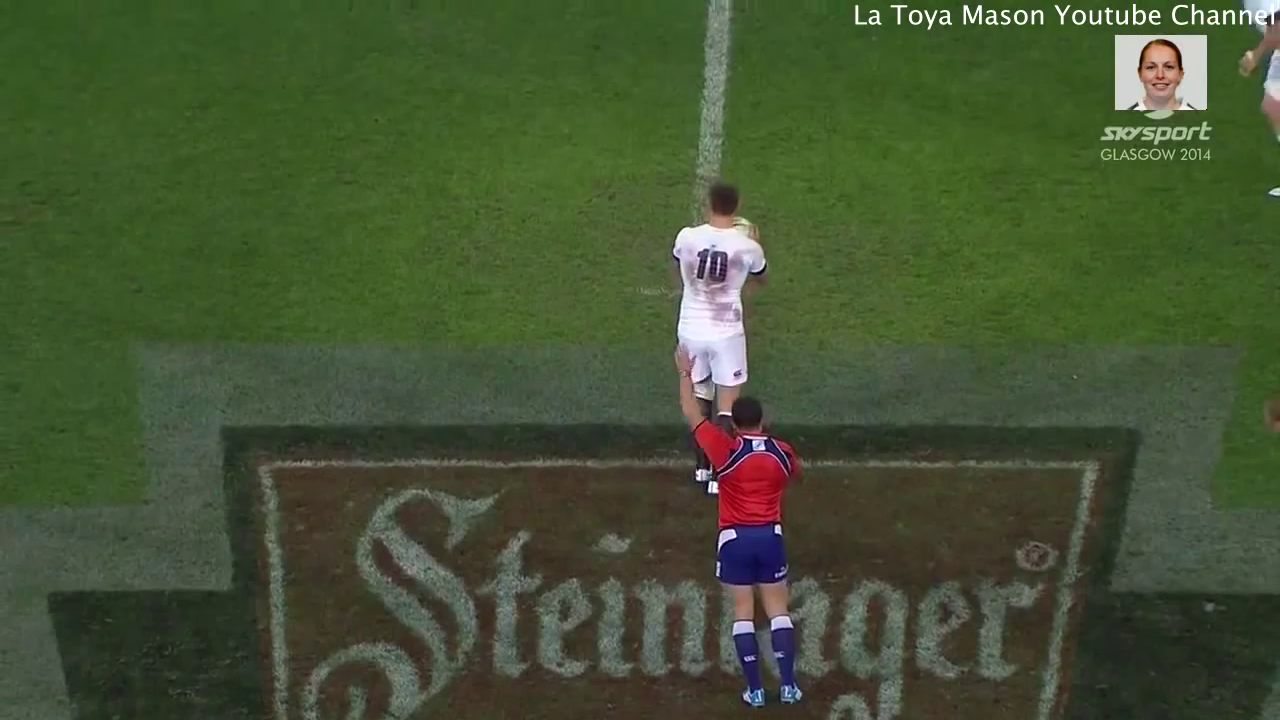player: (676, 343, 826, 720), (667, 177, 773, 428)
